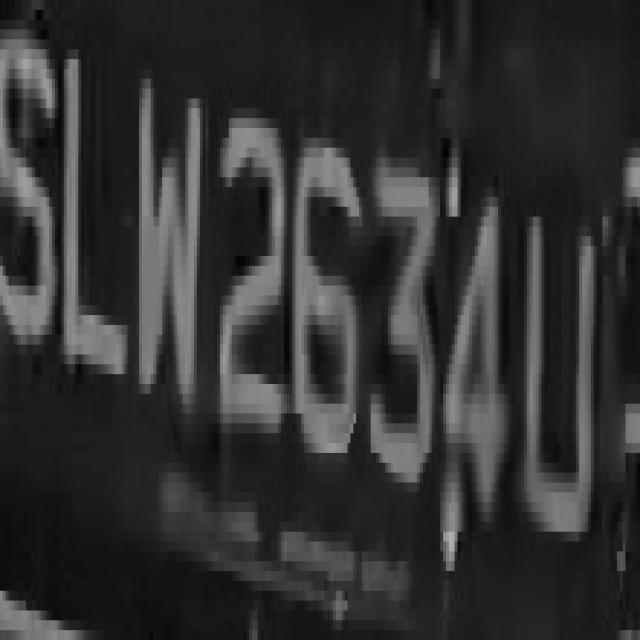2: (212, 79, 290, 482)
3: (362, 118, 434, 542)
4: (432, 128, 509, 561)
6: (287, 99, 359, 492)
L: (58, 29, 136, 394)
S: (0, 9, 61, 344)
U: (516, 187, 596, 591)
W: (130, 39, 208, 443)
